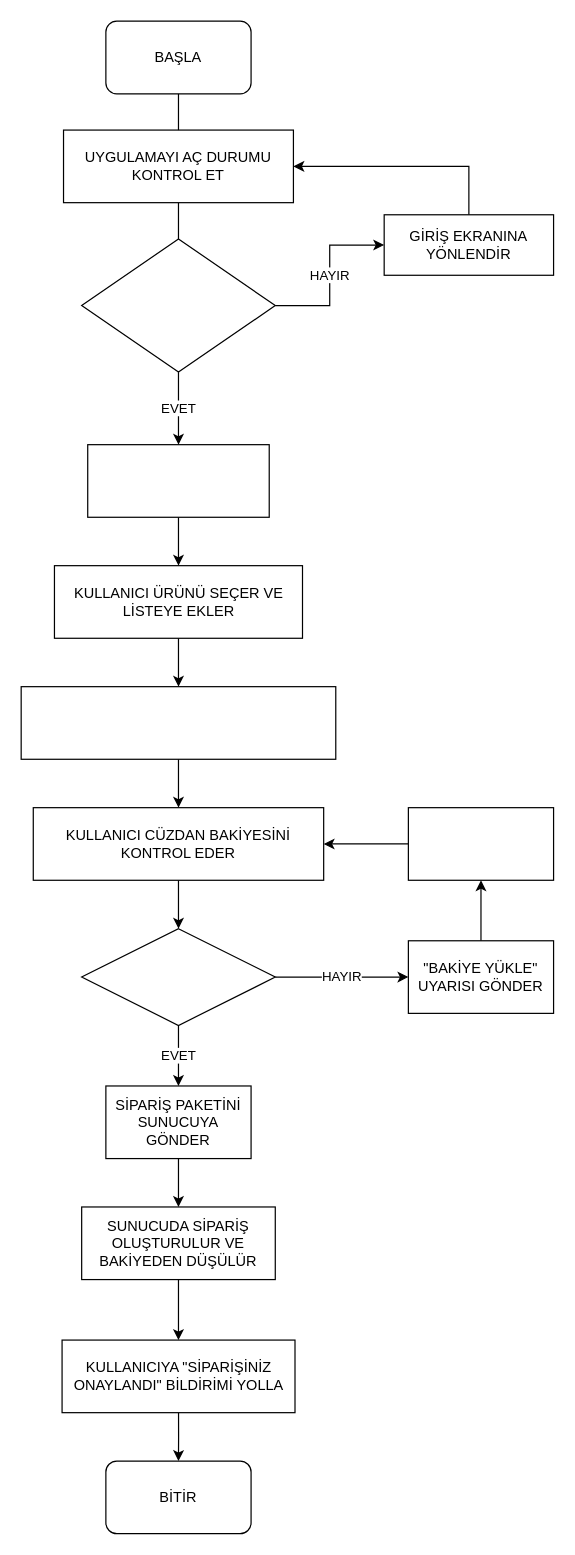
Image size: 575x1555. Some labels were removed from this diagram. The box of each missing label's shape, as (x1, y1, x2, y2) in pixels:
BAKİYE SEPET TUTARINI KARŞILIYOR MU?: (80, 927, 275, 1025)
KULLANICI BAKİYE YÜKLER: (407, 806, 554, 880)
KULLANICI GİRİŞ YAPMIŞ MI?: (80, 238, 275, 372)
SEPETİ GÖRÜNTÜLER VE SİPARİŞİ: (20, 685, 336, 759)
ÜRÜNLERİ LİSTELE: (87, 443, 269, 517)
